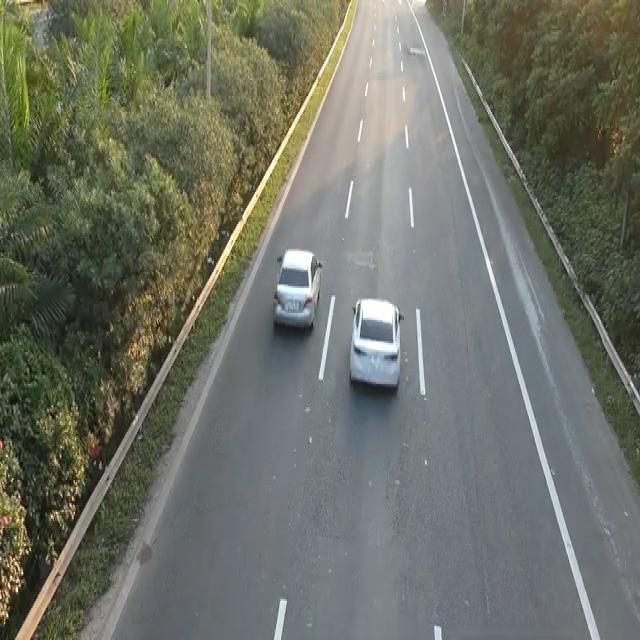bus: (347, 293, 404, 393), (271, 244, 324, 332)
